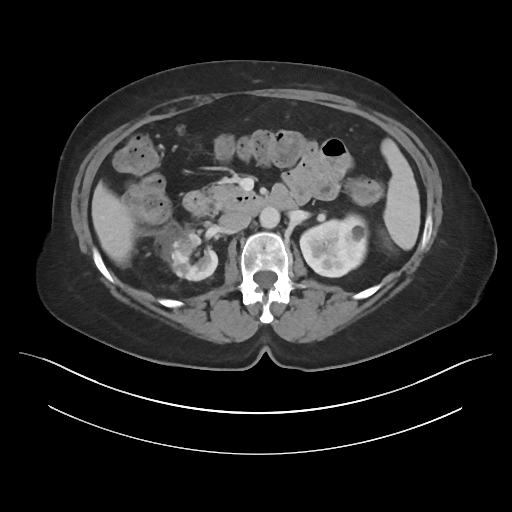Lesion: (346, 223, 369, 248)
